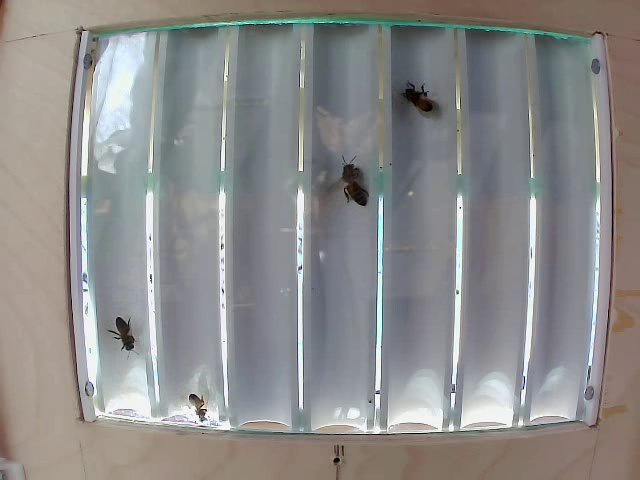bee: (325, 149, 376, 217), (101, 312, 136, 354), (406, 77, 435, 123), (186, 387, 219, 418)
